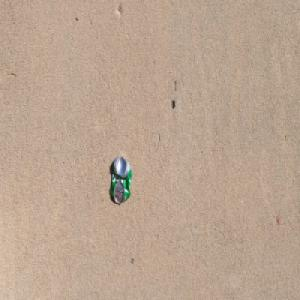SodaCan: (109, 155, 132, 204)
